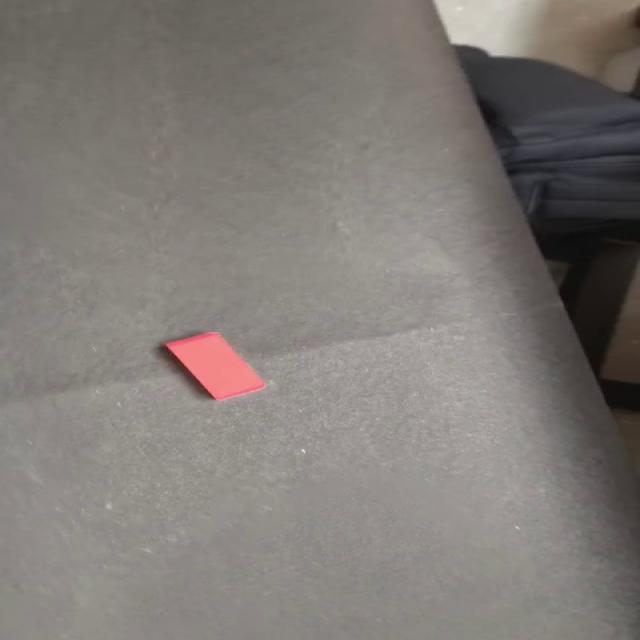red block: (163, 330, 265, 401)
